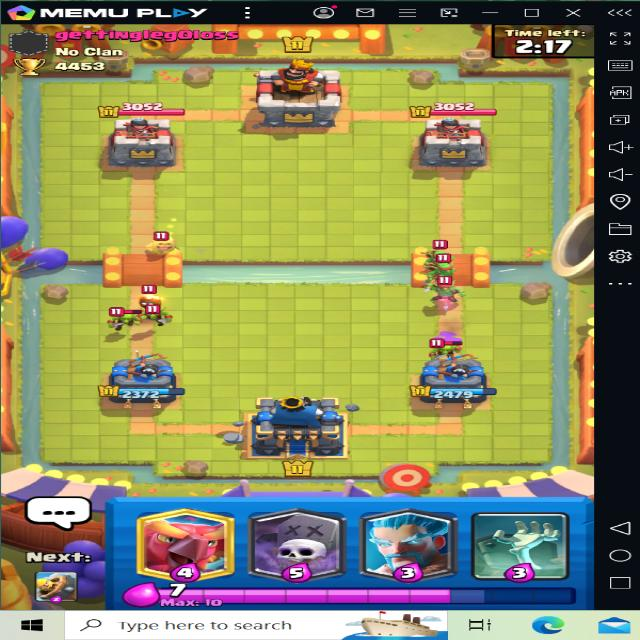fire-spirit: (128, 283, 176, 311)
goblin: (104, 297, 148, 334), (136, 303, 180, 328), (429, 340, 476, 363)
heal-spirit: (140, 226, 182, 257)
spear-goblin: (421, 276, 462, 308), (418, 232, 458, 264), (430, 256, 462, 280)
